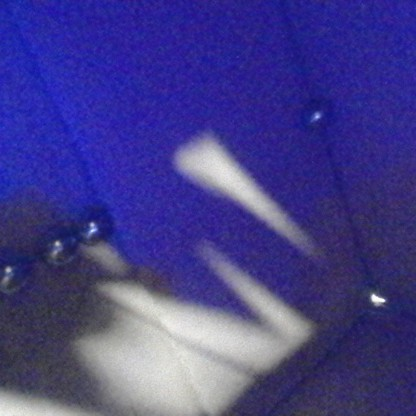ironball: (69, 205, 114, 249), (0, 245, 35, 299), (38, 223, 78, 269), (298, 91, 333, 131)
